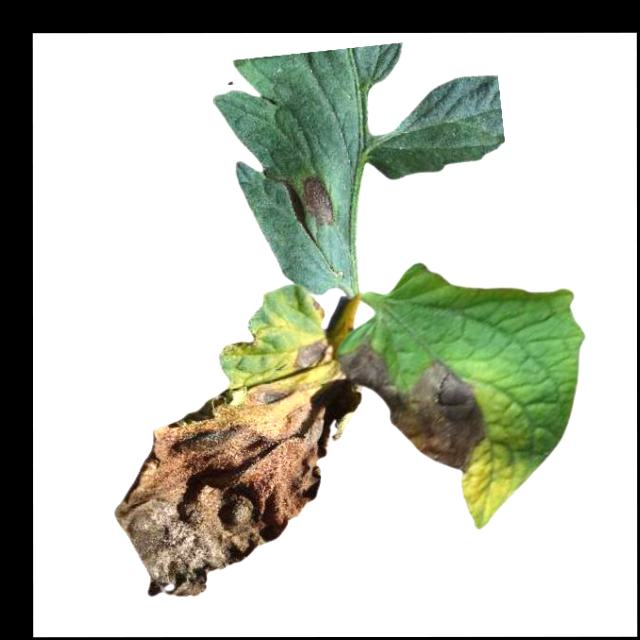Early_blight: (112, 384, 324, 596), (341, 342, 488, 470), (302, 176, 333, 227), (294, 336, 327, 369), (310, 298, 325, 318)
